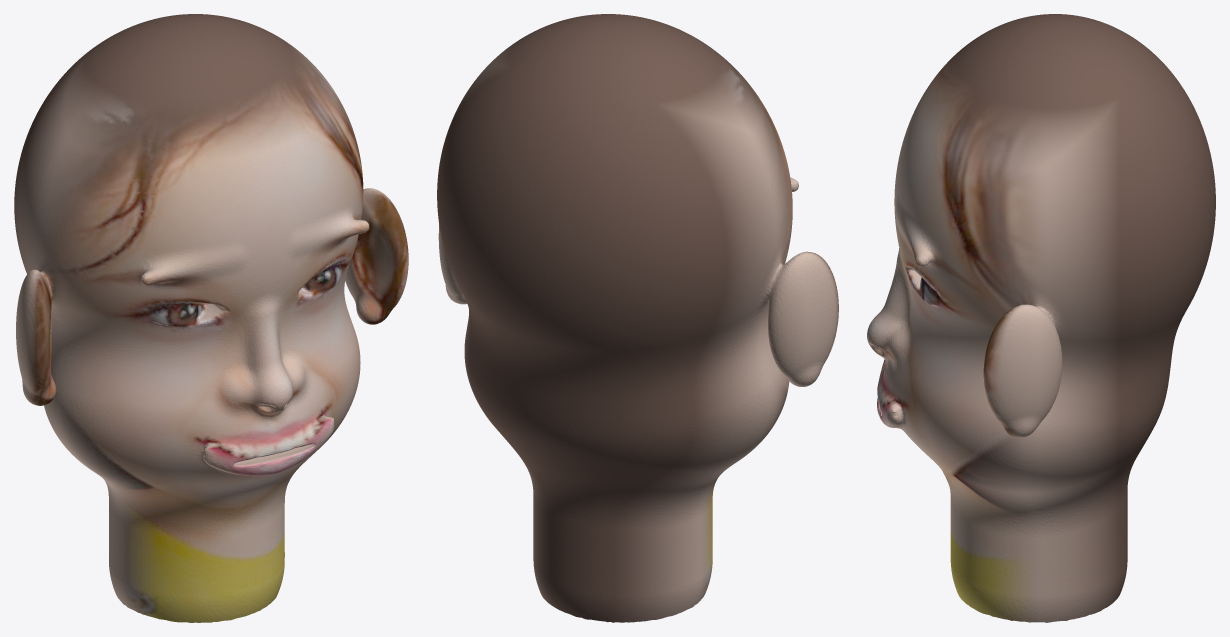
Rendered from karma_face_stage1_B_EXPERIMENT.glb.
3 views of the same model, side by side, from view 1: azimuth 30°, elevation 25°; view 2: azimuth 150°, elevation 25°; view 3: azimuth 270°, elevation 25° (orthographic).
Parts seen in each view (by area): view 1: geometry_0; view 2: geometry_0; view 3: geometry_0.
Part boxes in pixels (<box>): geometry_0: <box>14,14,408,622</box>; geometry_0: <box>437,14,838,622</box>; geometry_0: <box>867,14,1215,622</box>.
Size of the model in its own units: 2.74 by 3.83 by 2.17.
